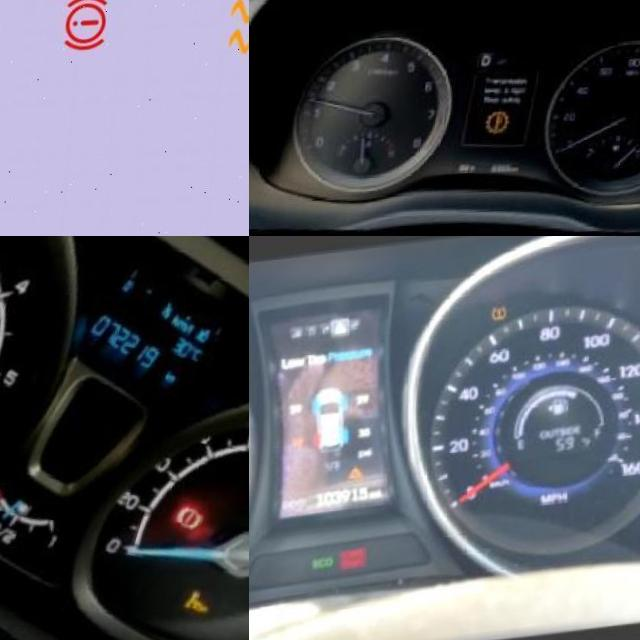Engine cooling system: (374, 145, 380, 153)
Low fuel level: (621, 153, 628, 159)
